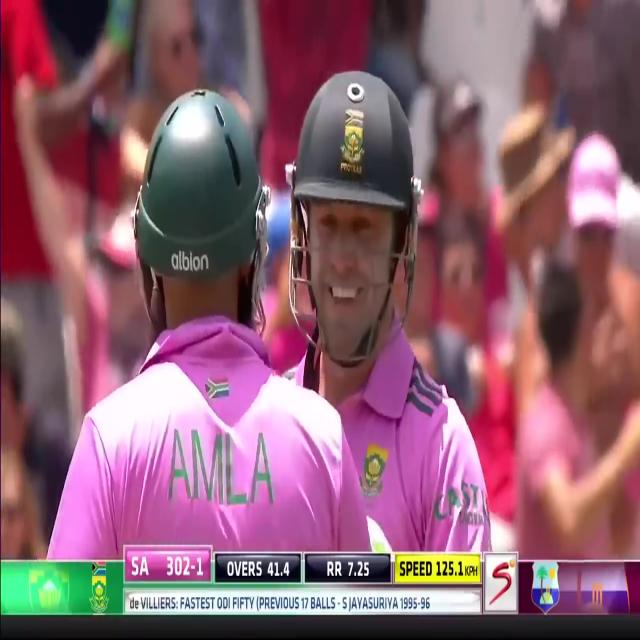Ball: (52, 95, 368, 557), (276, 70, 498, 550)
